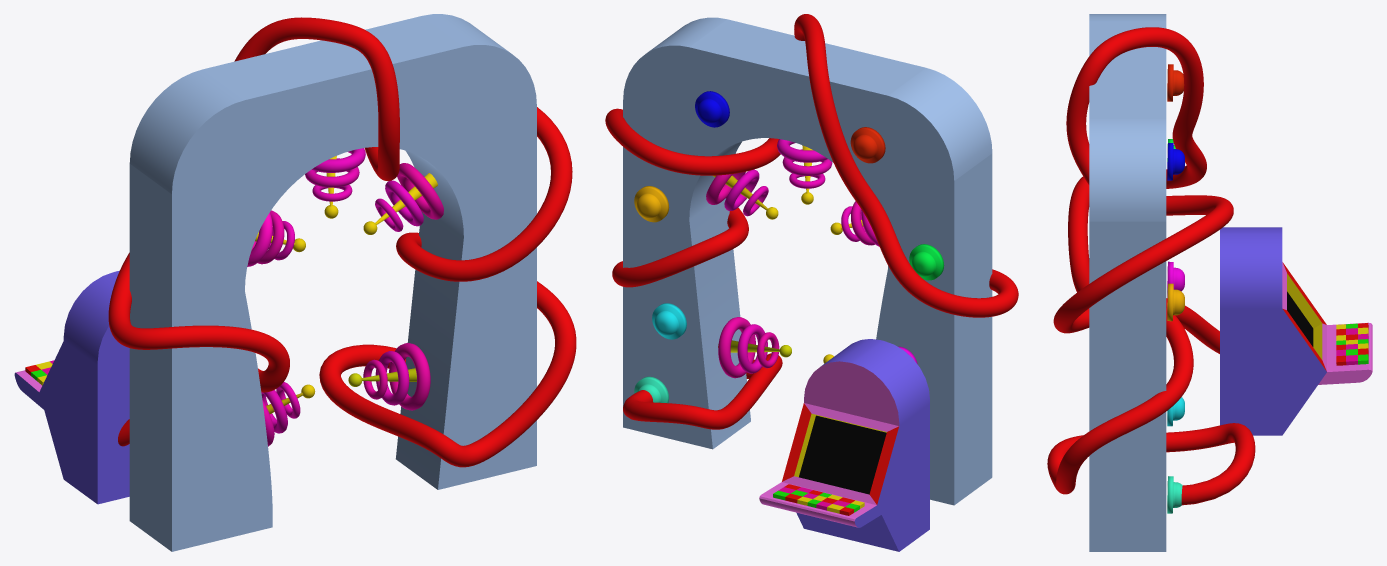
The model's file is portal1.fbx.
The picture shows the model from 3 angles, left to right: view 1: azimuth 30°, elevation 25°; view 2: azimuth 150°, elevation 25°; view 3: azimuth 270°, elevation 25°; orthographic projection. The views are drawn at different scales.
Visible parts, largest first — view 1: Portal, NurbsPath, Pierscien.014, Pierscien.002, Pierscien.013, Pierscien.001, Pierscien.011, Pierscien.010; view 2: Portal, NurbsPath, Pierscien.014, Cylinder.004, Cylinder, Cylinder.002, Cylinder.003, Cylinder.005, Pierscien.013, Pierscien.001, Pierscien.011, Pierscien.002 (+3 smaller); view 3: Portal, NurbsPath, Cylinder.002, Cylinder.003, Cylinder.004, Cylinder.001, Cylinder.006.
Boxes of the visible parts, <box> form: Portal: <box>14,14,536,551</box>; NurbsPath: <box>108,17,576,467</box>; Pierscien.014: <box>389,343,430,410</box>; Pierscien.002: <box>397,163,443,219</box>; Pierscien.013: <box>375,351,409,405</box>; Pierscien.001: <box>385,180,423,226</box>; Pierscien.011: <box>311,148,365,172</box>; Pierscien.010: <box>305,158,359,187</box>; Portal: <box>623,17,992,551</box>; NurbsPath: <box>605,14,1018,429</box>; Pierscien.014: <box>718,317,755,378</box>; Cylinder.004: <box>850,127,885,163</box>; Cylinder: <box>652,303,686,339</box>; Cylinder.002: <box>634,186,669,222</box>; Cylinder.003: <box>695,91,729,127</box>; Cylinder.005: <box>909,244,944,280</box>; Pierscien.013: <box>737,324,767,373</box>; Pierscien.001: <box>724,169,759,210</box>; Pierscien.011: <box>777,139,827,162</box>; Pierscien.002: <box>706,171,745,204</box>; Portal: <box>1089,14,1372,551</box>; NurbsPath: <box>1047,27,1255,505</box>; Cylinder.002: <box>1167,283,1184,321</box>; Cylinder.003: <box>1167,143,1184,180</box>; Cylinder.004: <box>1167,64,1184,101</box>; Cylinder.001: <box>1167,476,1182,513</box>; Cylinder.006: <box>1167,261,1184,297</box>.
Bounding box in the file's own units: 1210 × 1249 × 842.
